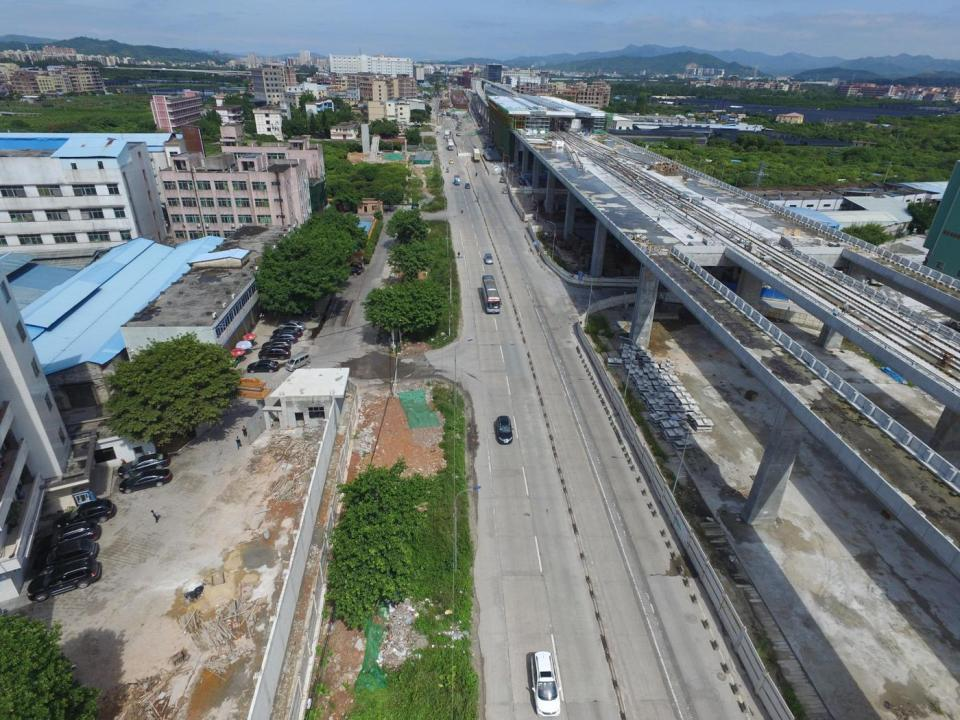bus: (482, 275, 501, 314)
car: (26, 559, 102, 602), (35, 521, 100, 557), (34, 539, 100, 573), (56, 499, 115, 531), (118, 469, 173, 496), (117, 452, 170, 479), (495, 416, 512, 444), (248, 359, 279, 374), (259, 346, 290, 361), (273, 327, 301, 338), (262, 340, 289, 351), (271, 333, 298, 344), (279, 320, 305, 331), (346, 267, 360, 275), (484, 253, 494, 264), (347, 261, 361, 268), (412, 204, 420, 209), (448, 159, 454, 164), (465, 182, 470, 188), (502, 188, 507, 194)
truck: (472, 148, 480, 163), (447, 140, 453, 150), (454, 175, 460, 185)
van: (529, 650, 560, 717), (286, 352, 312, 371), (499, 177, 506, 182)
